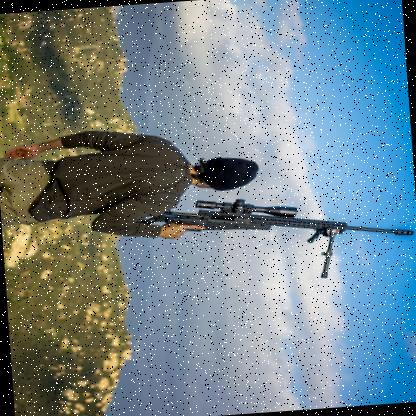rifle: (142, 181, 416, 283)
